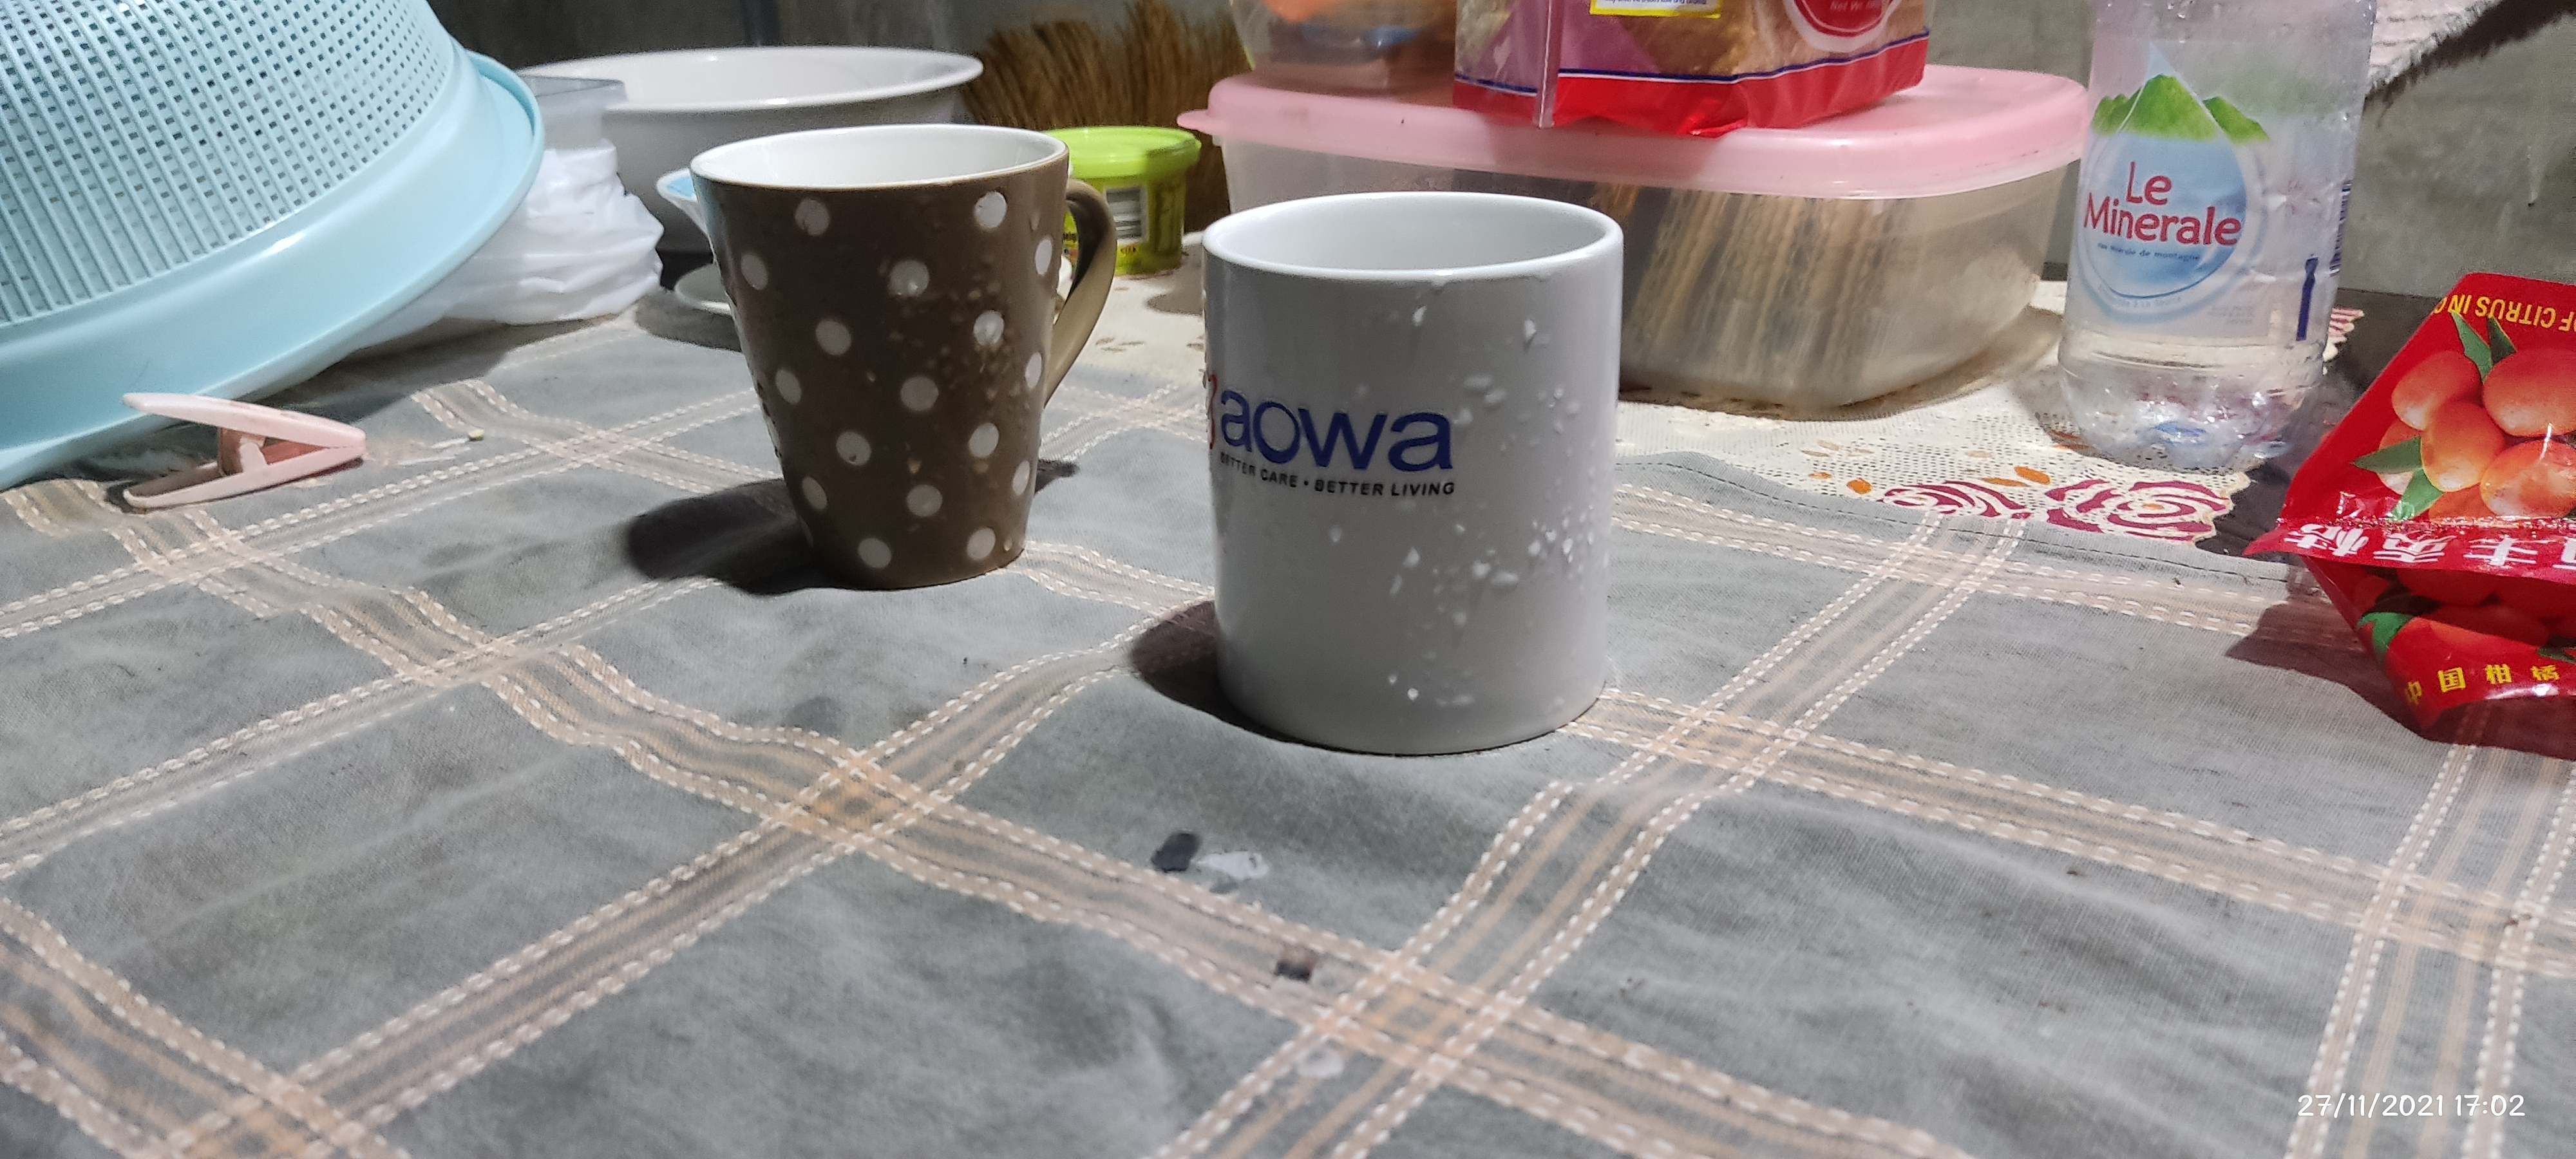mug: (1196, 186, 1623, 760), (693, 118, 1119, 589)
